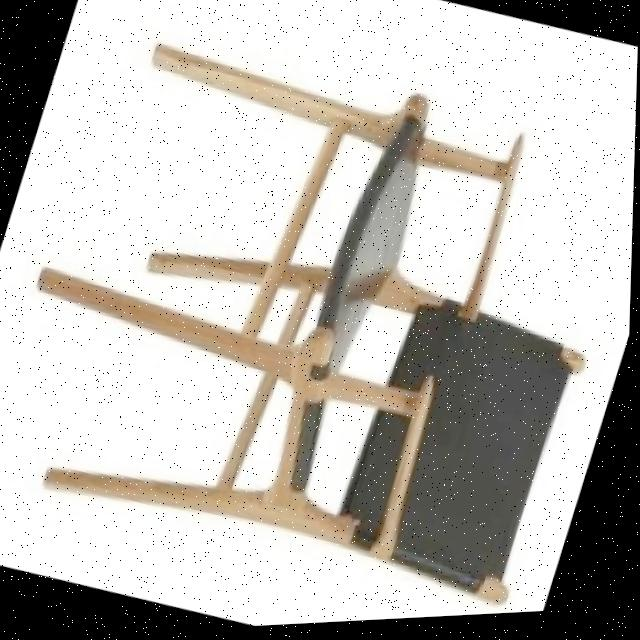sandalye: (0, 1, 639, 640)
